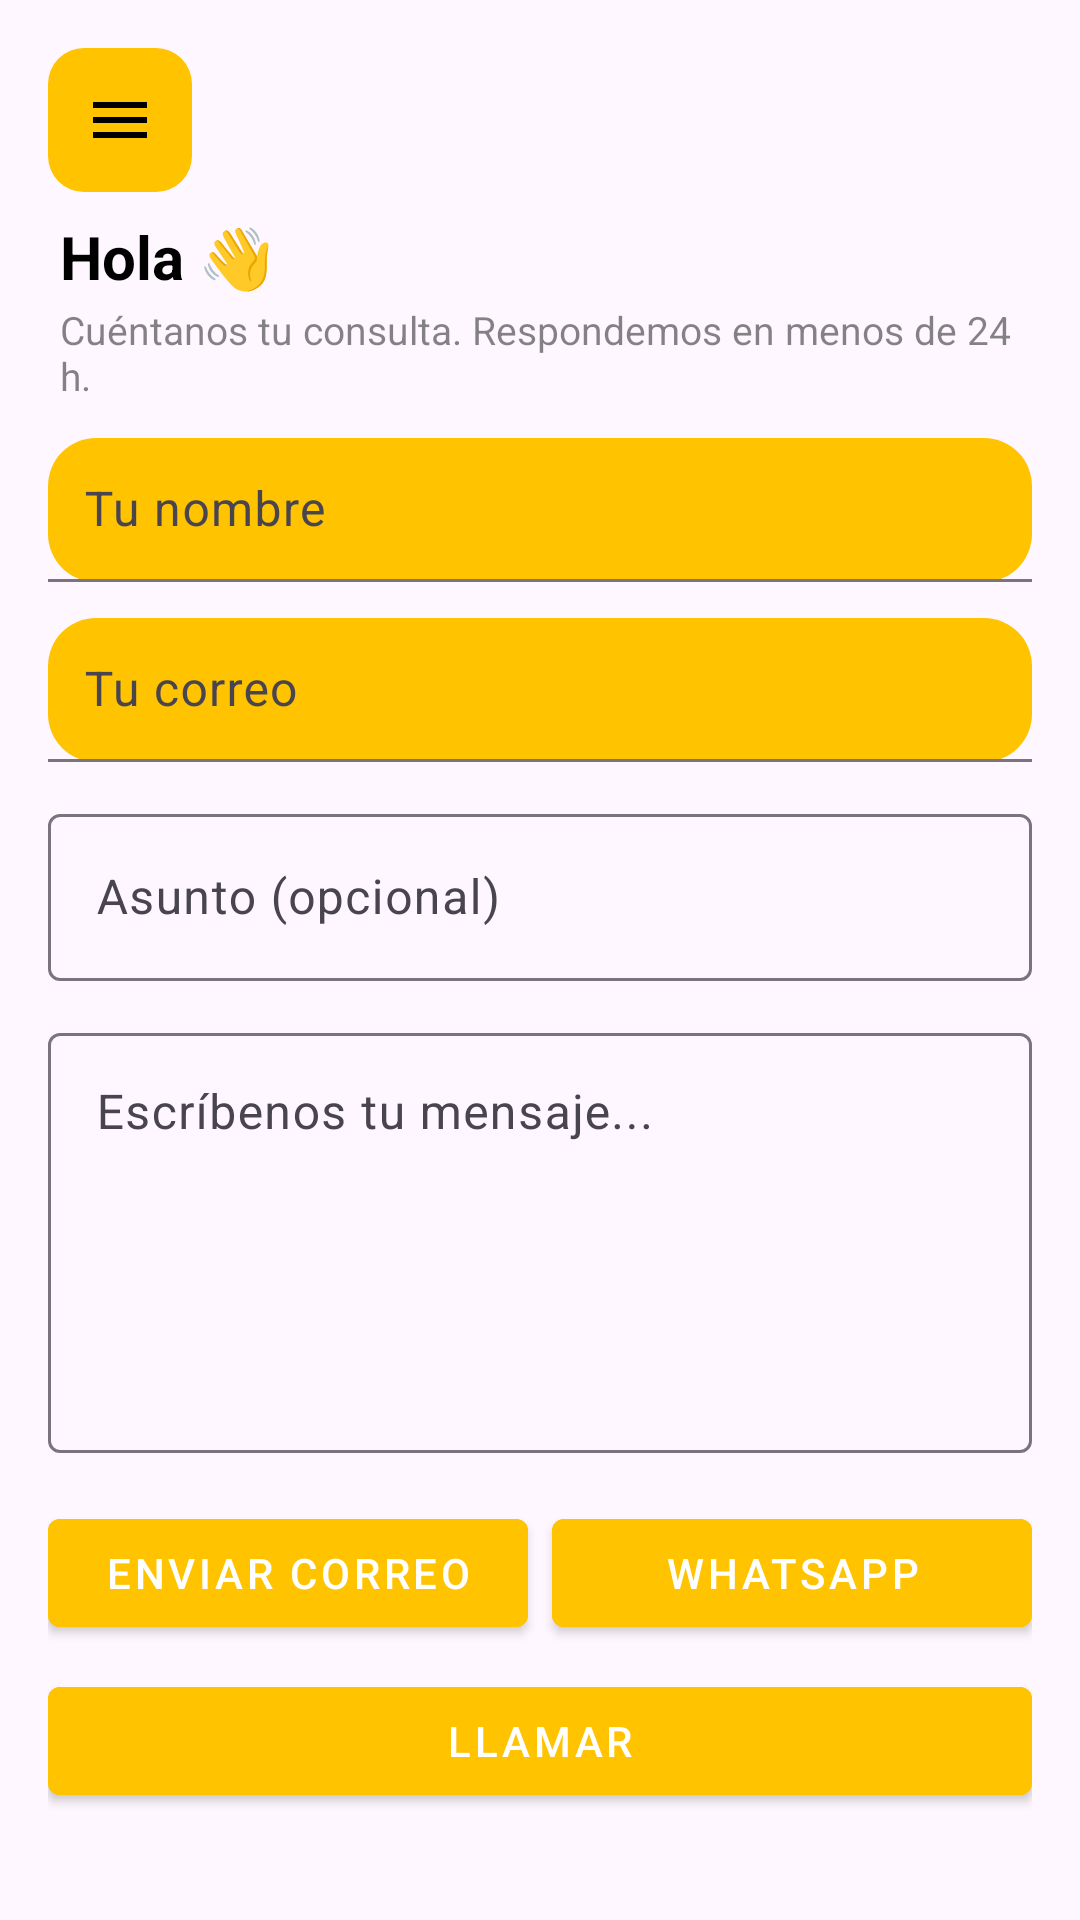

Point at icon controls on the screen. Image size 1080*1920, points as (x,y).
menu: (120,120)
